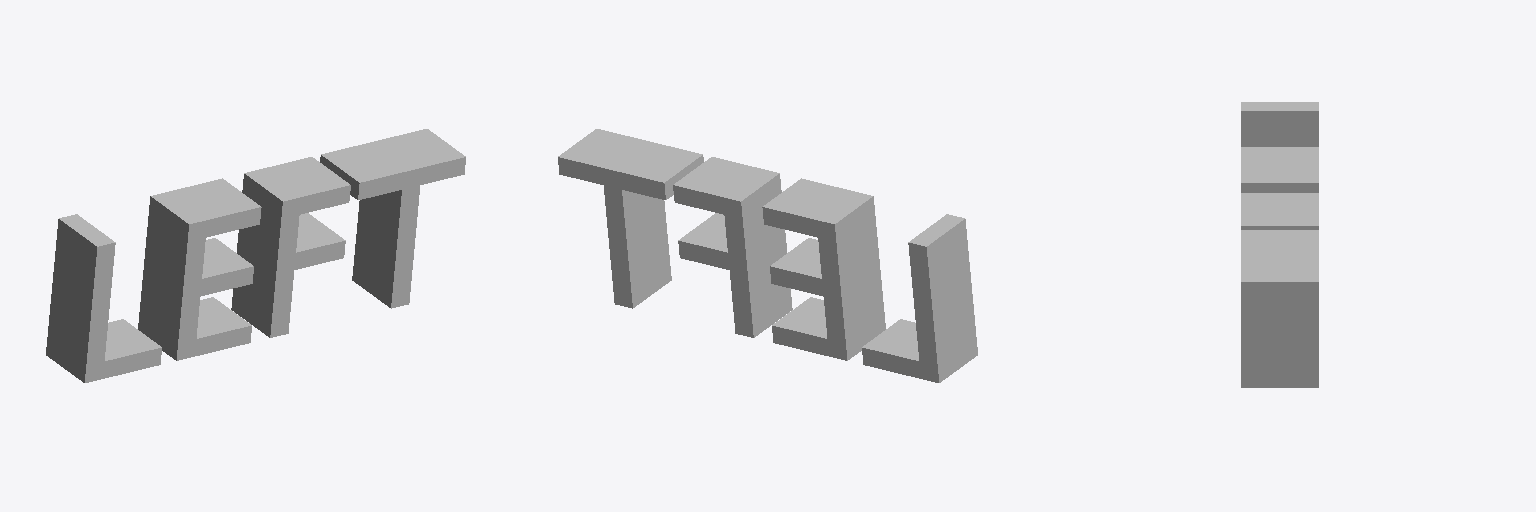
File: LEFT.obj
The picture shows the model from 3 angles: view 1: azimuth 30°, elevation 25°; view 2: azimuth 150°, elevation 25°; view 3: azimuth 270°, elevation 25°; orthographic projection.
Parts seen in each view (by area): view 1: Text.002; view 2: Text.002; view 3: Text.002.
Part boxes in pixels (x1,y1,x2,y2): Text.002: (46, 129, 465, 382); Text.002: (558, 129, 977, 382); Text.002: (1241, 102, 1318, 387).
Size of the model in its own units: 2.04 by 0.682 by 0.36.